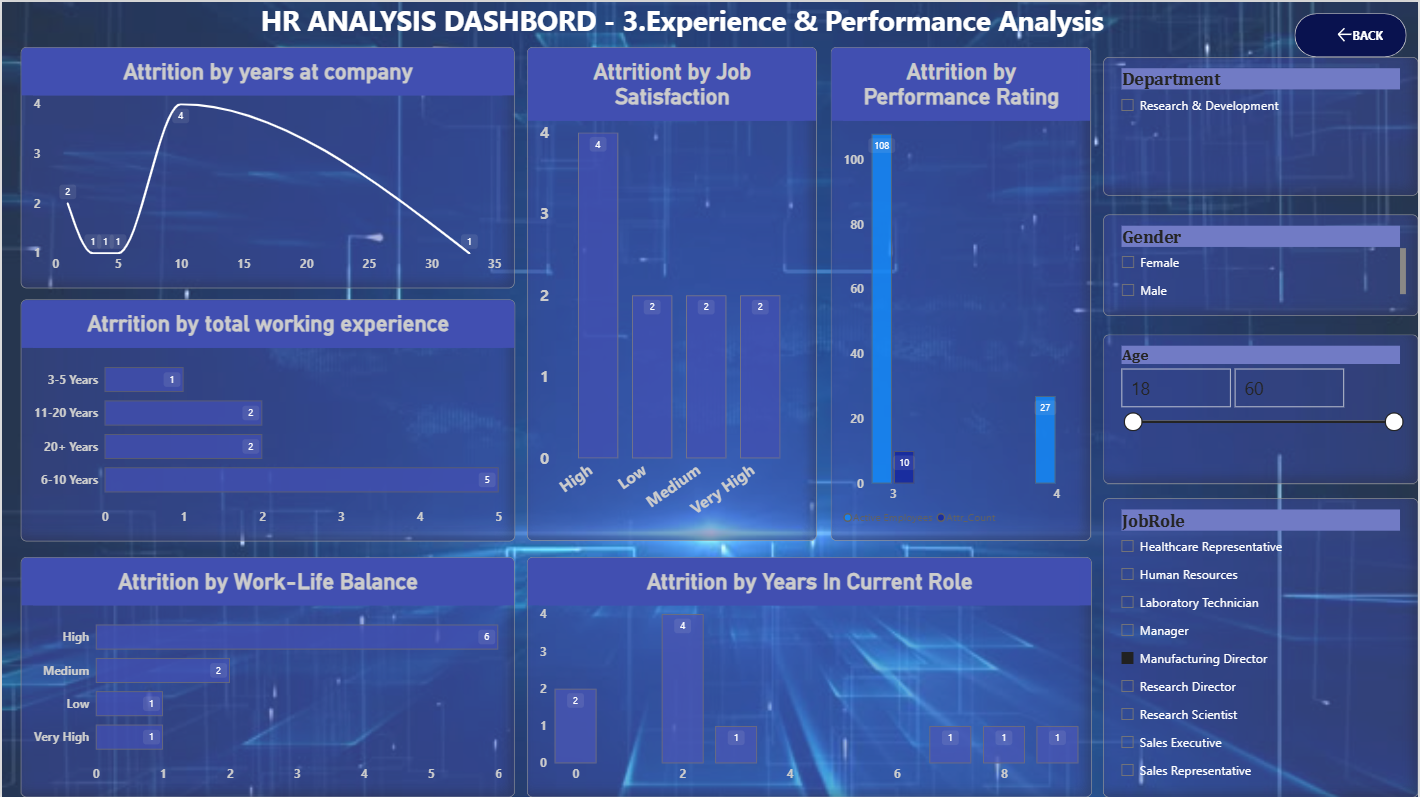

The dashboard page shown, as its layout file describes it:
{"tool":"powerbi","page":{"name":"Experience_performance_analysis","canvas":[1920,1080],"ordinal":3},"visuals":[{"type":"textbox","box":[329.4,0,1187.1,74.2],"z":0},{"type":"lineChart","title":"Attrition by years at company","fields":{"Category":["HR_Analytics.YearsAtCompany"],"Y":["HR_Analytics.Attr_Count"]},"box":[25.3,61.5,669.6,327.5],"z":1},{"type":"clusteredBarChart","title":"Atrrition by total working experience","fields":{"Category":["HR_Analytics.Experience Group"],"Y":["HR_Analytics.Attr_Count"]},"box":[25.3,403.6,670,328],"z":2},{"type":"clusteredColumnChart","title":"Attrition by Years In Current Role","fields":{"Category":["HR_Analytics.YearsInCurrentRole"],"Y":["HR_Analytics.Attr_Count"]},"box":[711.2,752.8,765.5,327.5],"z":3},{"type":"clusteredColumnChart","title":"Attritiont by Job Satisfaction","fields":{"Category":["HR_Analytics.Job Satisfaction Level"],"Y":["HR_Analytics.Attr_Count"]},"box":[711.2,61.5,392.7,669.6],"z":4},{"type":"clusteredBarChart","title":"Attrition by Work-Life Balance","fields":{"Category":["HR_Analytics.Work Life Balance Level"],"Y":["HR_Analytics.Attr_Count"]},"box":[25.3,752.8,669.6,327.5],"z":5},{"type":"clusteredColumnChart","title":"Attrition by Performance Rating","fields":{"Category":["HR_Analytics.PerformanceRating"],"Y":["HR_Analytics.Active Employees","HR_Analytics.Attr_Count"]},"box":[1123.8,61.5,352.9,669.6],"z":6},{"type":"slicer","fields":{"Values":["HR_Analytics.Department"]},"box":[1493,74.2,427.1,188.2],"z":7},{"type":"slicer","fields":{"Values":["HR_Analytics.Gender"]},"box":[1493,287.7,427.1,137.5],"z":8},{"type":"slicer","fields":{"Values":["HR_Analytics.Age"]},"box":[1493,450.6,427.1,202.7],"z":9},{"type":"slicer","fields":{"Values":["HR_Analytics.JobRole"]},"box":[1493,673.2,427.1,407.2],"z":10},{"type":"actionButton","box":[1751.8,14.5,152,59.7],"z":11}]}

Visuals, with their boxes in screenshot pixels (x1, y1, x2, y2), scaled from the page's 1920x1080 canvas onto the 1420x797 screenshot:
textbox: {"left": 244, "top": 0, "right": 1122, "bottom": 55}
"Attrition by years at company" lineChart: {"left": 19, "top": 45, "right": 514, "bottom": 287}
"Atrrition by total working experience" clusteredBarChart: {"left": 19, "top": 298, "right": 514, "bottom": 540}
"Attrition by Years In Current Role" clusteredColumnChart: {"left": 526, "top": 556, "right": 1092, "bottom": 796}
"Attritiont by Job Satisfaction" clusteredColumnChart: {"left": 526, "top": 45, "right": 816, "bottom": 540}
"Attrition by Work-Life Balance" clusteredBarChart: {"left": 19, "top": 556, "right": 514, "bottom": 796}
"Attrition by Performance Rating" clusteredColumnChart: {"left": 831, "top": 45, "right": 1092, "bottom": 540}
slicer - HR_Analytics.Department: {"left": 1104, "top": 55, "right": 1419, "bottom": 194}
slicer - HR_Analytics.Gender: {"left": 1104, "top": 212, "right": 1419, "bottom": 314}
slicer - HR_Analytics.Age: {"left": 1104, "top": 333, "right": 1419, "bottom": 482}
slicer - HR_Analytics.JobRole: {"left": 1104, "top": 497, "right": 1419, "bottom": 796}
actionButton: {"left": 1296, "top": 11, "right": 1408, "bottom": 55}
